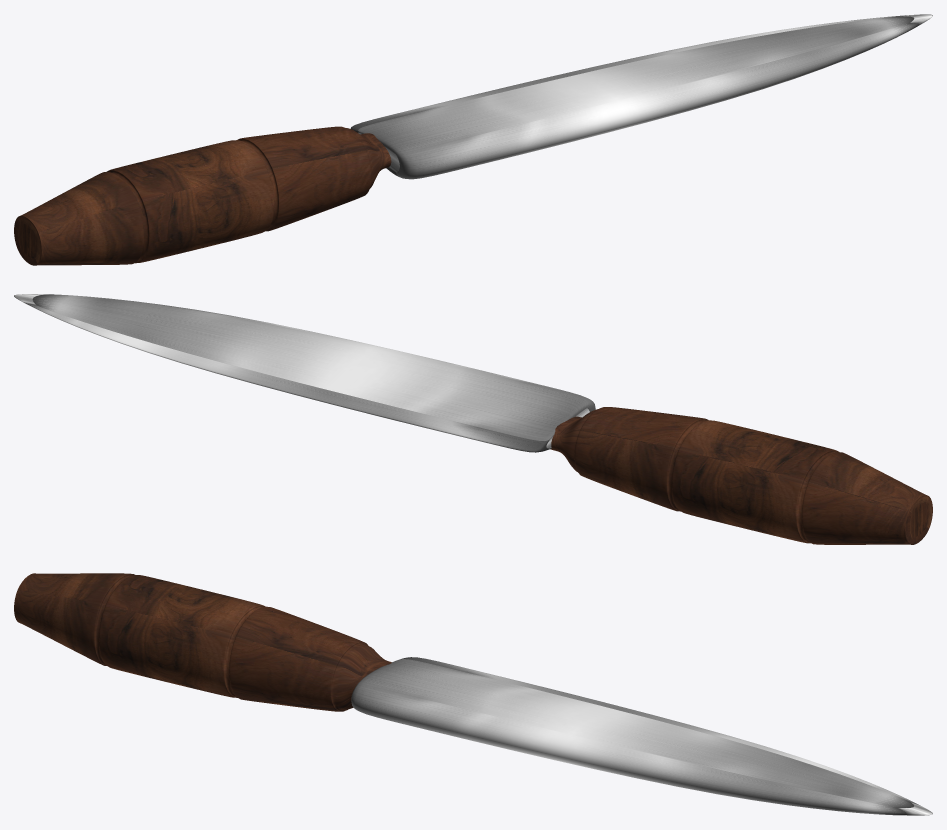
Rendered from couteau.dae.
3 views of the same model, one above another, from view 1: azimuth 30°, elevation 25°; view 2: azimuth 150°, elevation 25°; view 3: azimuth 330°, elevation 25° (orthographic).
Parts seen in each view (by area): view 1: lame, manche; view 2: lame, manche; view 3: lame, manche.
Part boxes in pixels (left/top/right/bottom): lame: left=350, top=14, right=932, bottom=179; manche: left=14, top=126, right=391, bottom=265; lame: left=14, top=294, right=595, bottom=452; manche: left=550, top=407, right=932, bottom=544; lame: left=351, top=657, right=932, bottom=815; manche: left=14, top=573, right=391, bottom=711.
Bounding box in the file's own units: 19.19 × 2.41 × 1.72.
2 materials, 2 textured.
